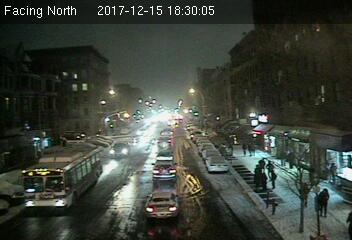bus: (19, 144, 101, 213)
car: (144, 191, 179, 218), (151, 157, 178, 182), (204, 156, 229, 173), (109, 142, 130, 158), (155, 136, 173, 148)
pedestrian: (268, 165, 278, 189)
